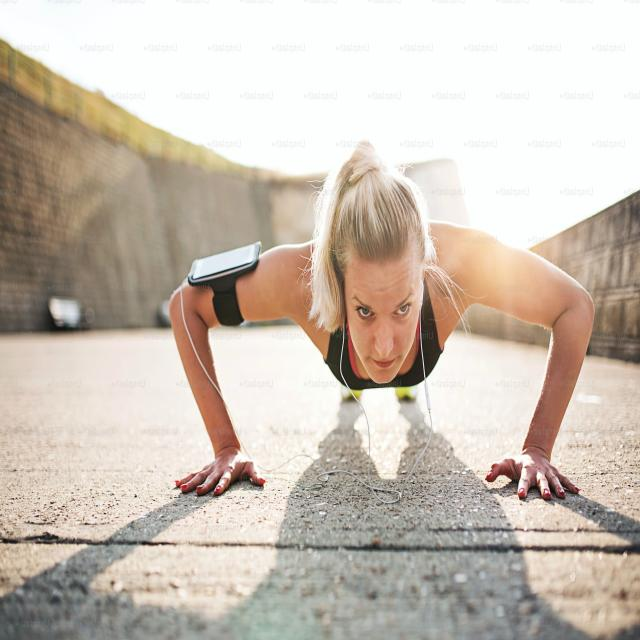adult: (168, 139, 595, 503)
